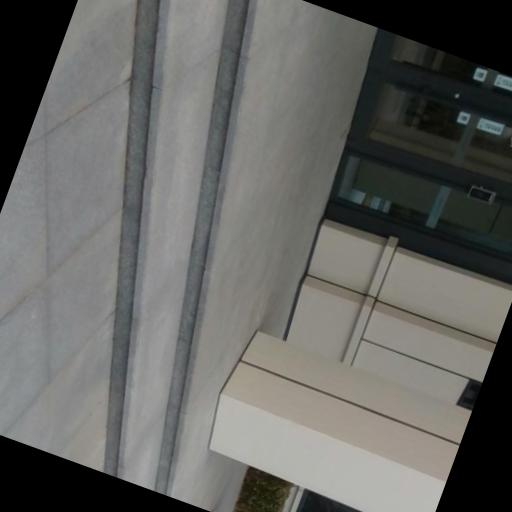stairs: (104, 0, 259, 495)
